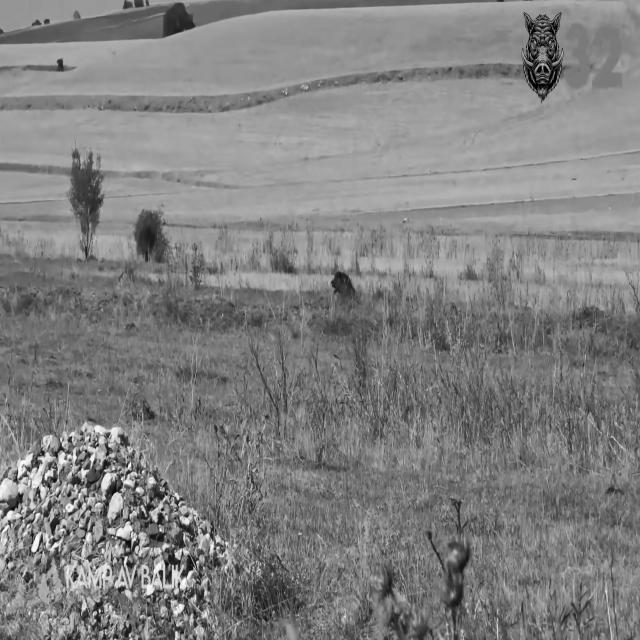boar: (521, 12, 563, 101), (331, 270, 356, 300)
